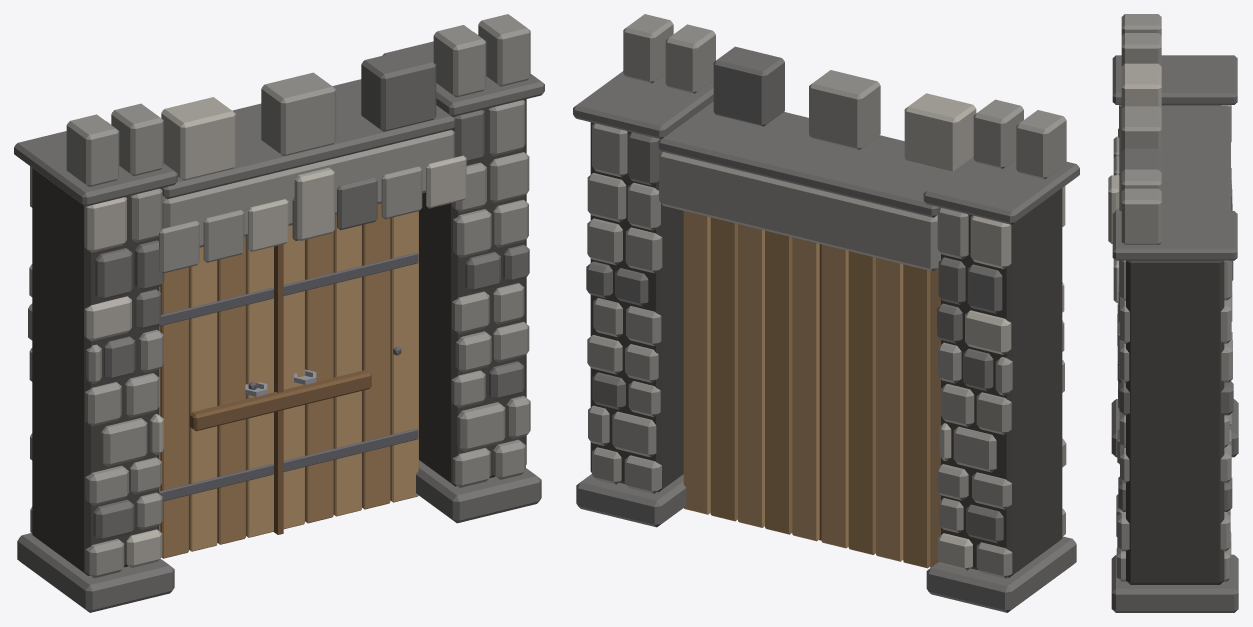
Rendered from gate_1.glb.
The picture shows the model from 3 angles, left to right: view 1: azimuth 30°, elevation 25°; view 2: azimuth 150°, elevation 25°; view 3: azimuth 270°, elevation 25°; orthographic projection. The views are drawn at different scales.
Parts seen in each view (by area): view 1: Gate; view 2: Gate; view 3: Gate.
Part boxes in pixels (<box>): Gate: <box>14,14,544,612</box>; Gate: <box>573,14,1079,612</box>; Gate: <box>1108,14,1238,612</box>.
Size of the model in its own units: 4.16 by 4.07 by 1.17.
